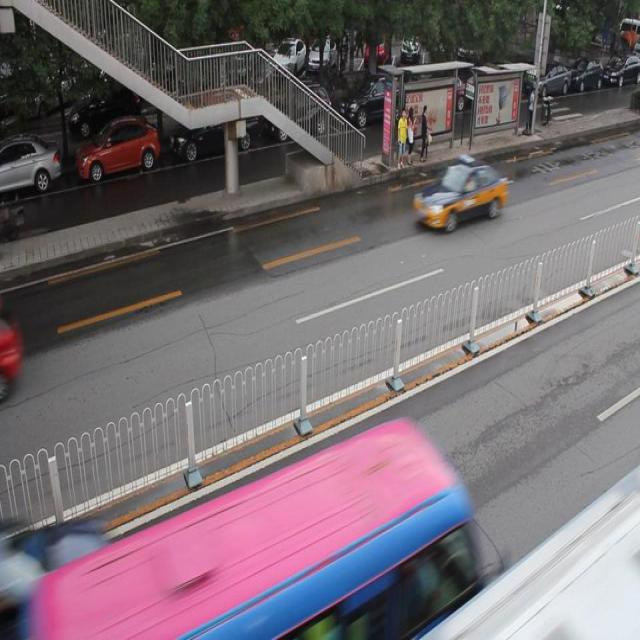car: (413, 154, 508, 232), (75, 119, 158, 182), (167, 103, 256, 160), (338, 70, 410, 129), (265, 85, 330, 140), (1, 136, 58, 196)
van: (51, 416, 484, 640), (412, 467, 640, 640)
